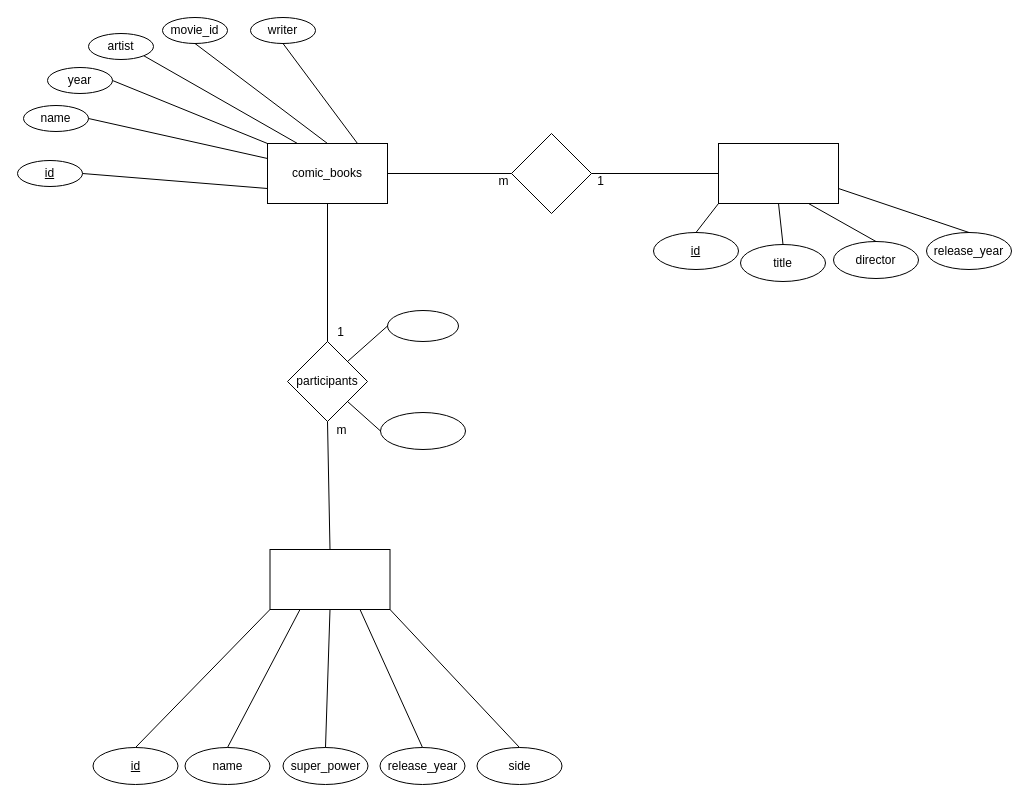
Image size: 1029x802. Some labels were removed from this diagram. Here are the shapes that lost their labels. From the top down, the box of each, then its label:
(510, 132, 592, 214): inspired by
(718, 142, 838, 204): movies
(386, 310, 458, 342): comic_id
(380, 412, 466, 450): character_id
(269, 548, 390, 610): characters
